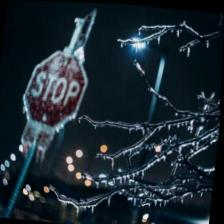Stop: (21, 47, 91, 131)
